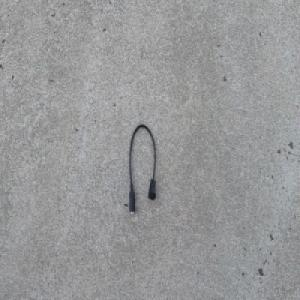Wire: (128, 122, 157, 216)
